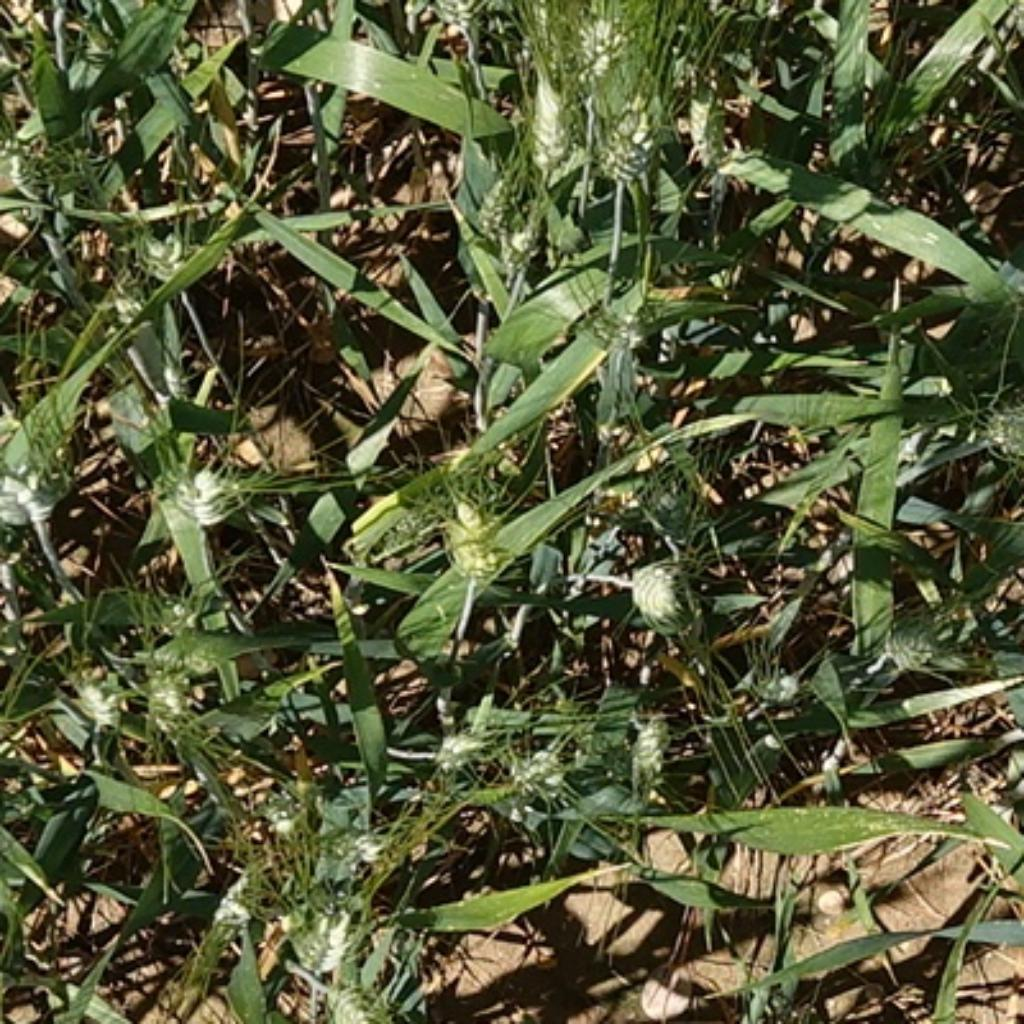0-0: (867, 573, 993, 673), (148, 448, 256, 537), (519, 51, 593, 176), (276, 878, 366, 972), (430, 486, 509, 586), (122, 225, 225, 299), (624, 547, 698, 645), (581, 291, 675, 363), (133, 642, 202, 734), (680, 74, 739, 176), (473, 151, 532, 253), (614, 704, 673, 803), (330, 824, 419, 888), (2, 465, 76, 537), (494, 202, 555, 289), (314, 965, 401, 1024), (501, 739, 576, 806), (598, 105, 659, 184), (64, 665, 130, 734), (975, 389, 1024, 473), (739, 655, 806, 706), (430, 716, 494, 768), (200, 883, 262, 936), (649, 492, 703, 540), (0, 146, 40, 188)
